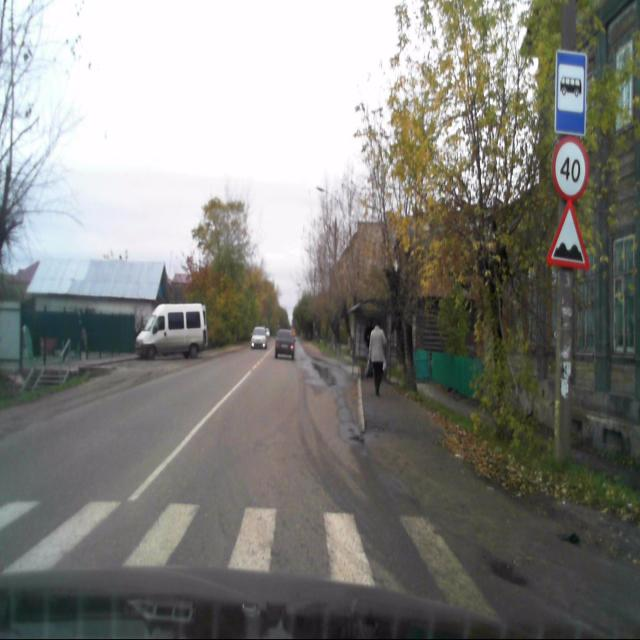road sign: (544, 202, 591, 272), (556, 49, 586, 135)
